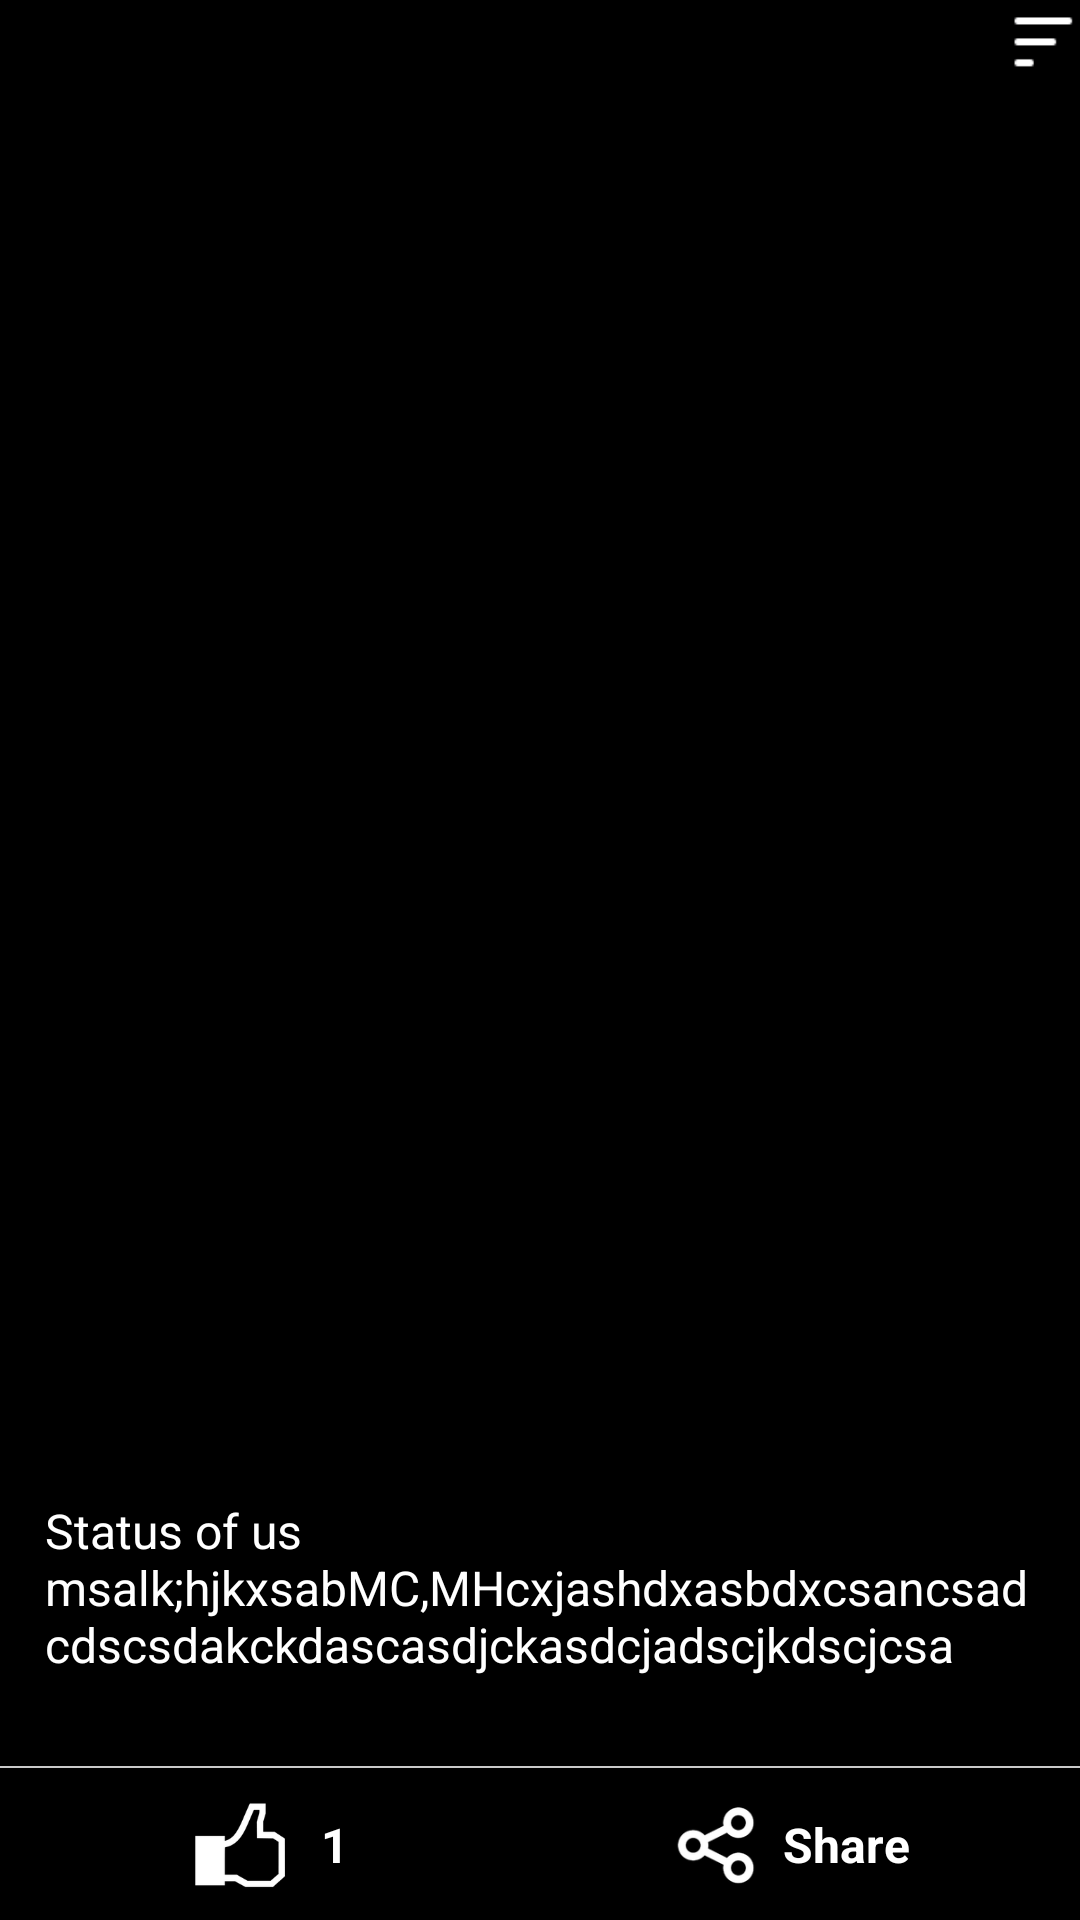

Icons on this 1080×1920 Android screen, each with the point to tap as point (x, y):
menubar: point (1043, 42)
